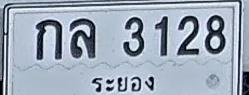1: (154, 15, 168, 56)
2: (176, 15, 200, 55)
3: (123, 16, 144, 57)
8: (204, 14, 225, 54)
A01: (35, 18, 62, 59)
A36: (70, 18, 96, 58)
RYG: (88, 72, 159, 95)
